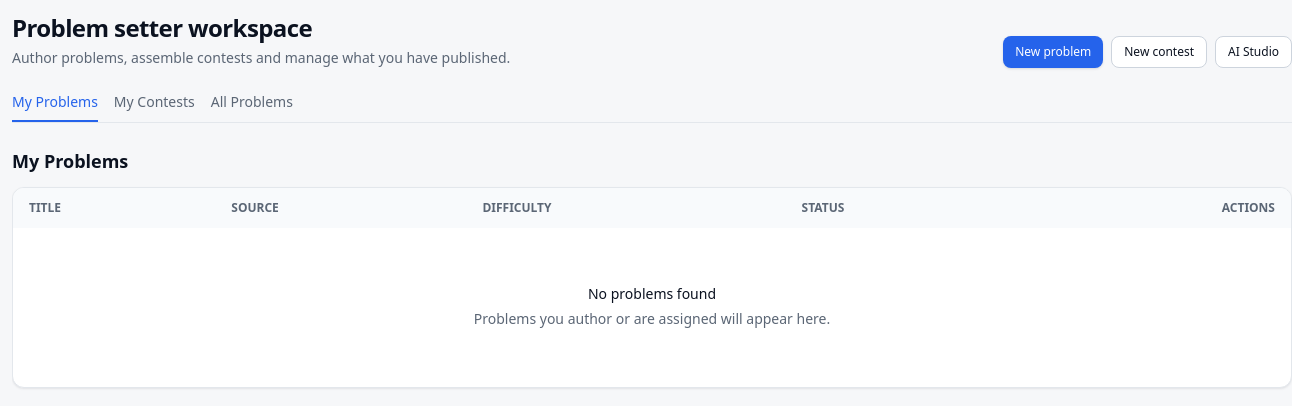
it: a contest row offers exactly one link to its manage page
Click the button "My Contests" at coordinates (154, 107), box [114,92,195,122]
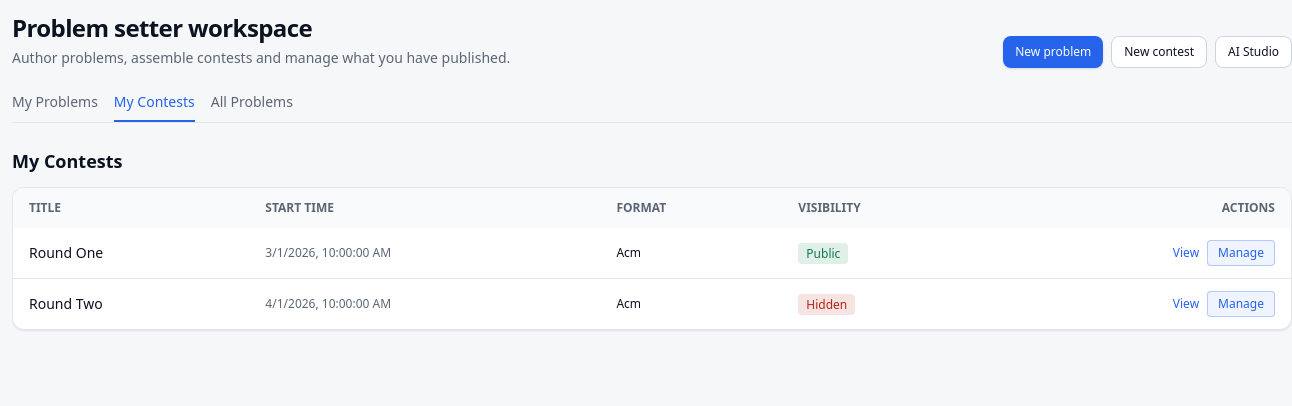
Now the text "Round One" is shown, box [13,228,249,278]
Now the number of links "Manage" is 2, box [1207,240,1275,266]; [1207,291,1275,317]
